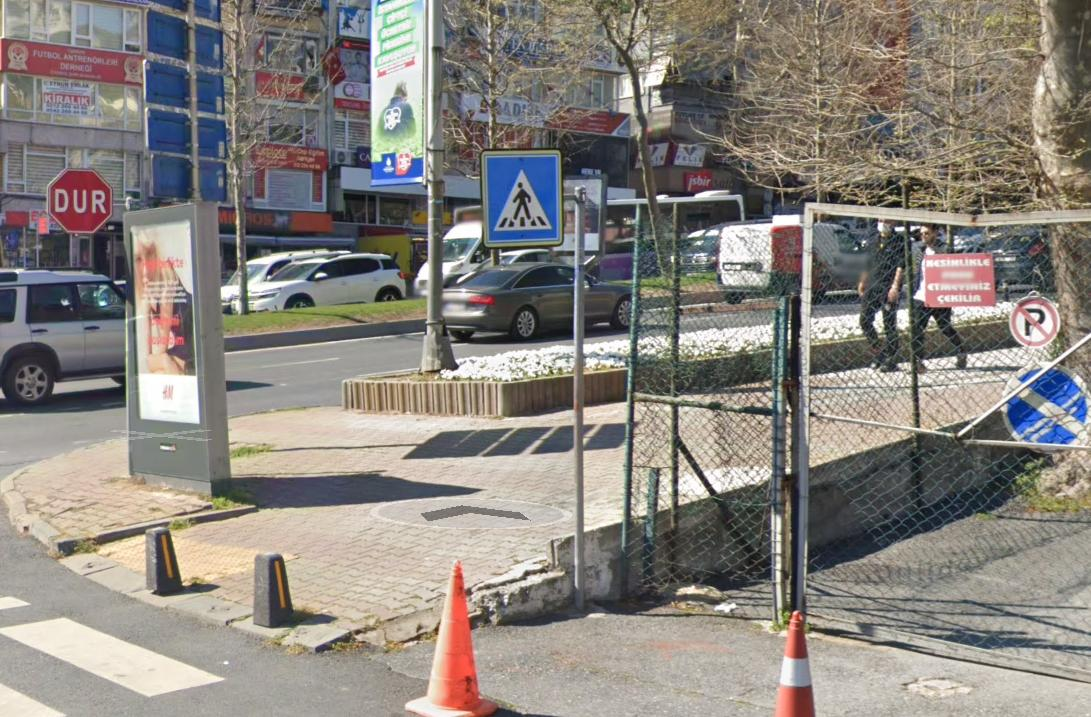nopark: (1011, 295, 1061, 347)
stop: (46, 175, 110, 232)
